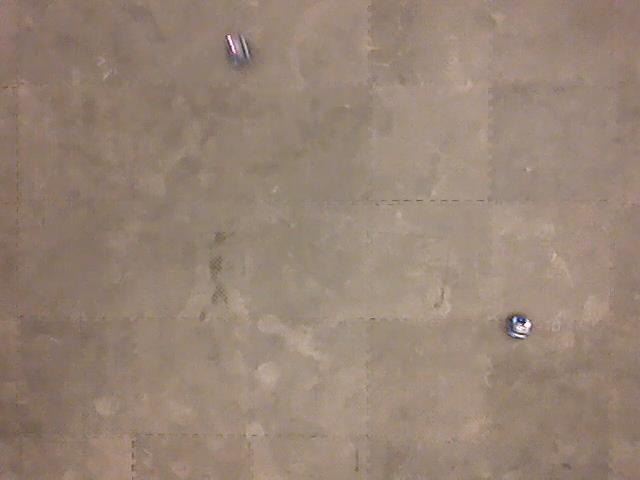Agent: (221, 31, 253, 69), (503, 310, 536, 343)
